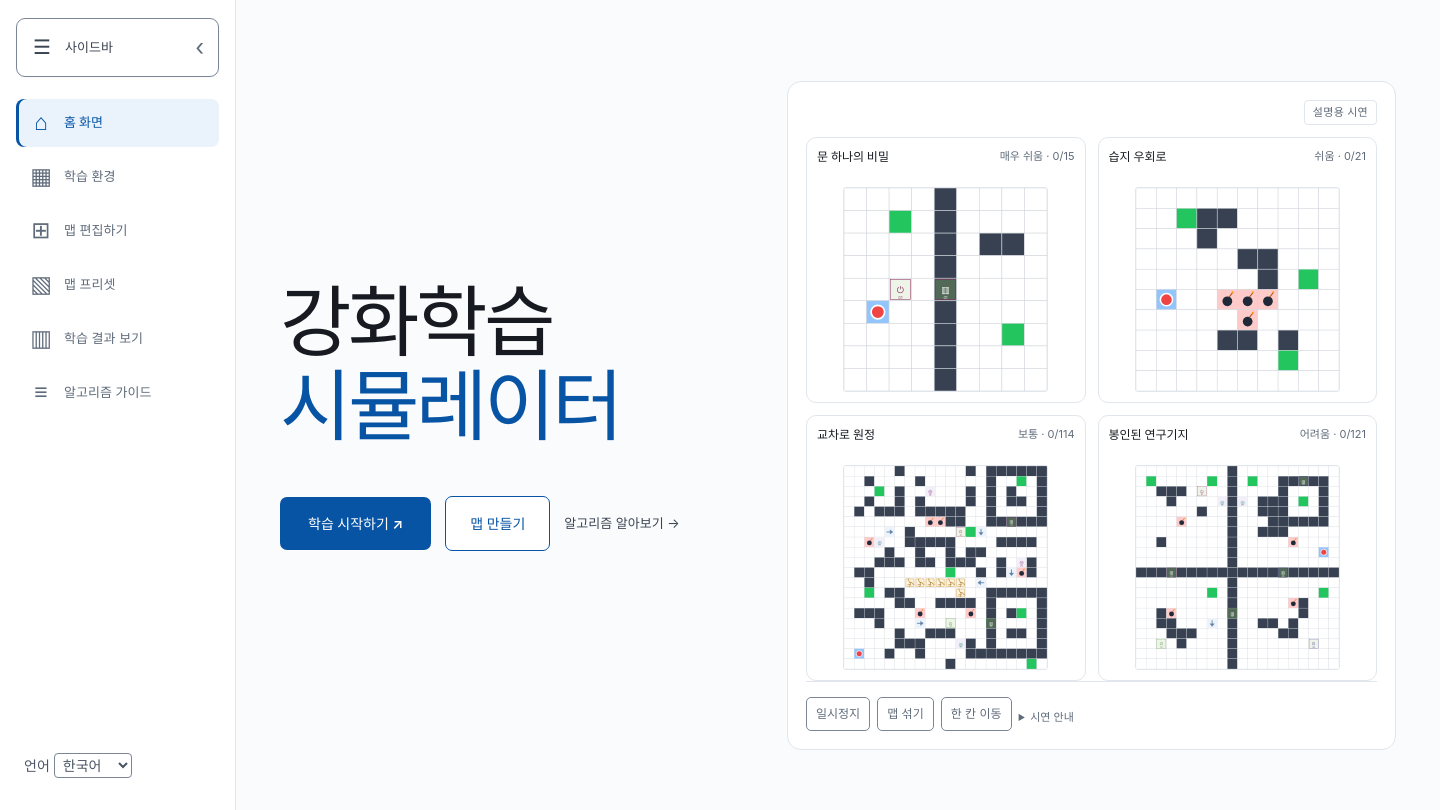
training-complete toast › the toolbar button and the toast share the same greedy path
Click the button with test id "nav-environment": point(118, 176) [16,152,219,200]
Wait 4000 ms
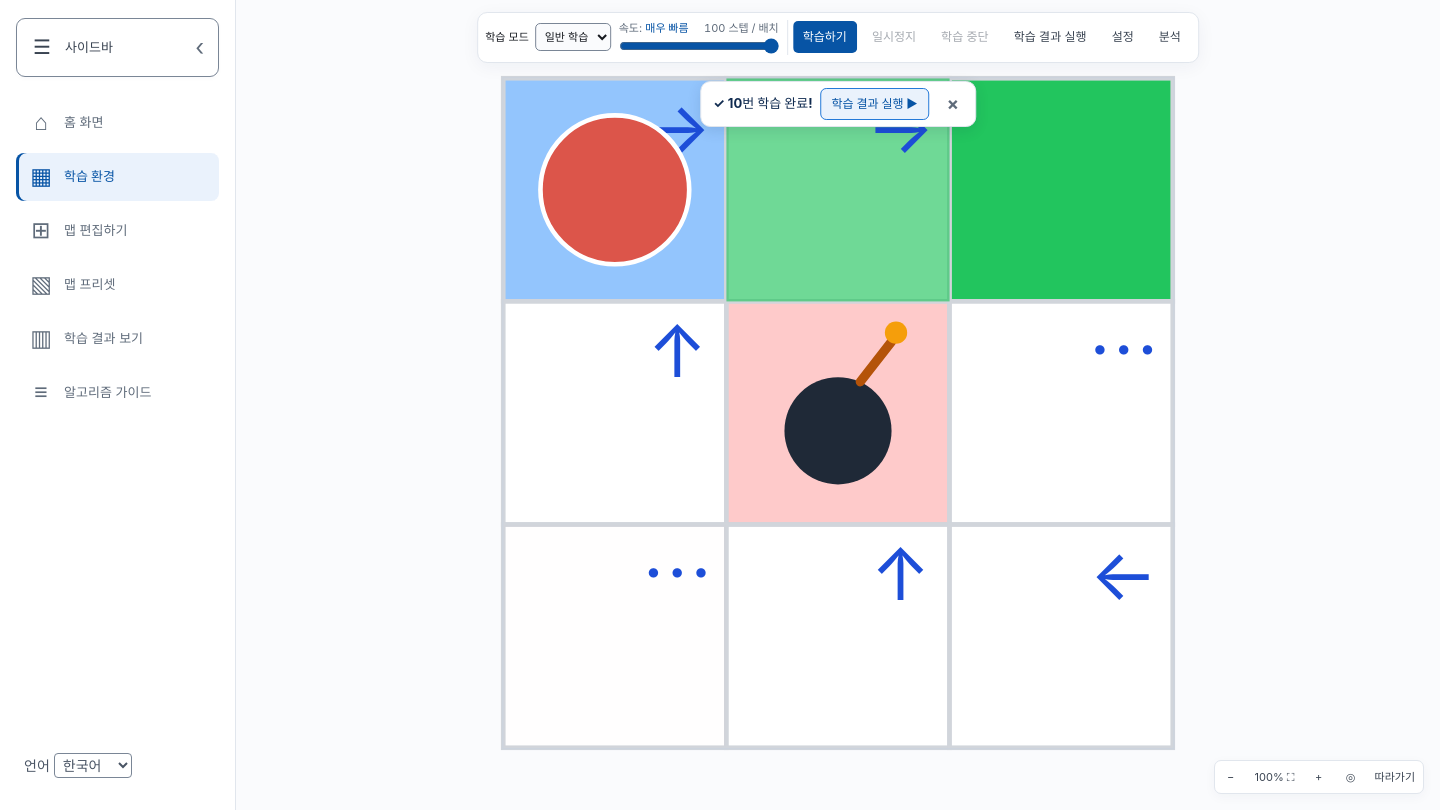
Click the button with test id "playback-run-greedy": point(1050, 37) [1004,21,1097,53]
Wait 30000 ms
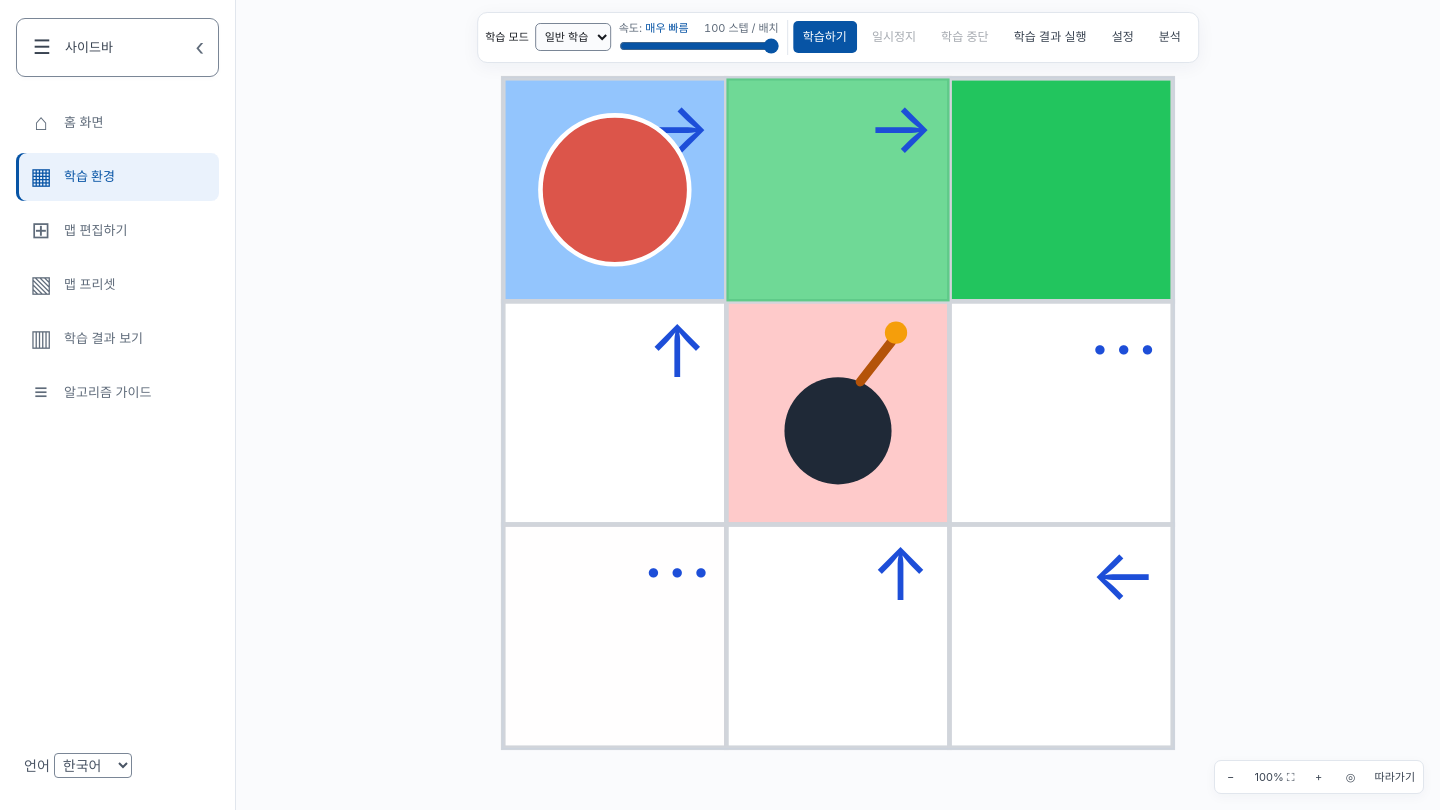
Result: the message with test id "training-complete" is gone
